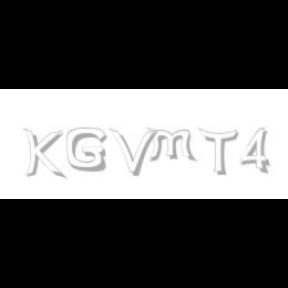4: (240, 128, 270, 174)
G: (66, 128, 106, 172)
K: (23, 128, 63, 180)
T: (198, 128, 238, 176)
V: (109, 128, 157, 176)
m: (146, 128, 198, 162)
